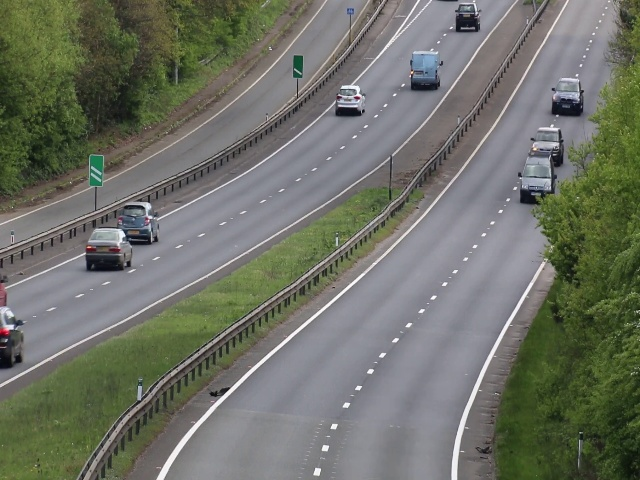car: (85, 226, 135, 274), (117, 200, 161, 247), (518, 159, 557, 206), (548, 75, 588, 116), (528, 125, 566, 168), (408, 49, 445, 91), (334, 85, 368, 115), (454, 1, 482, 32)
